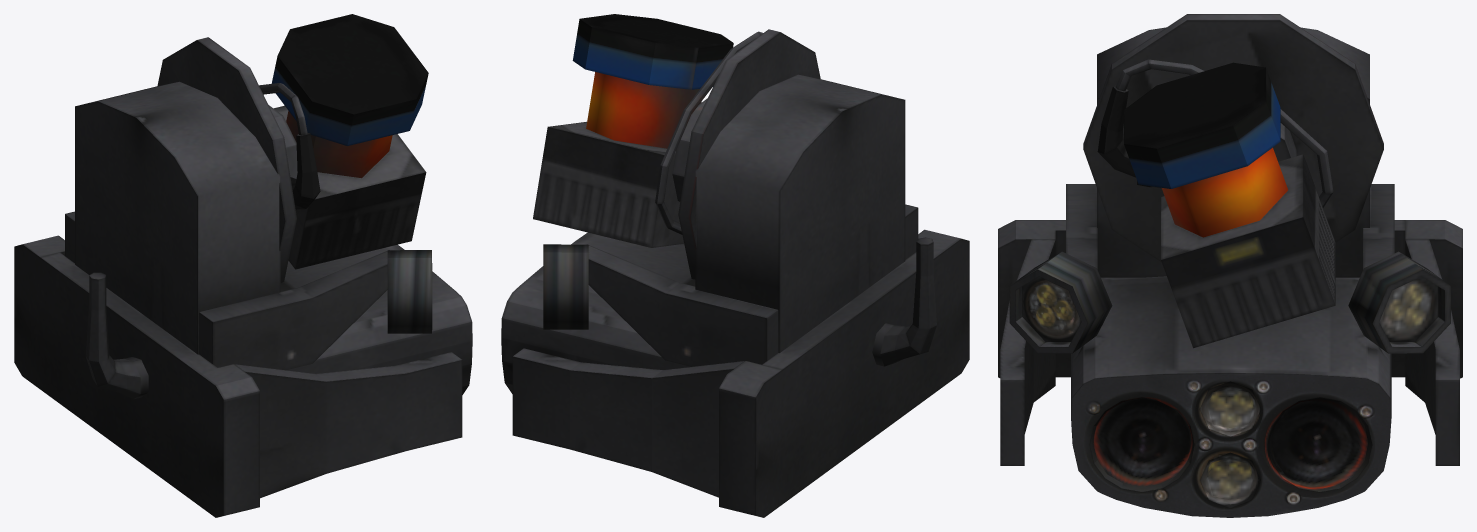
File: head.dae
The picture shows the model from 3 angles, left to right: view 1: azimuth 30°, elevation 25°; view 2: azimuth 150°, elevation 25°; view 3: azimuth 270°, elevation 25°; orthographic projection. The views are drawn at different scales.
Visible parts, largest first — view 1: head; view 2: head; view 3: head.
Boxes of the visible parts, x1,y1,x2,y2 form: head: (14, 14, 472, 517); head: (501, 14, 969, 517); head: (998, 14, 1462, 517).
Bounding box in the file's own units: 0.1698 × 0.185 × 0.1785.
Materials: 1 (1 with a texture image).
